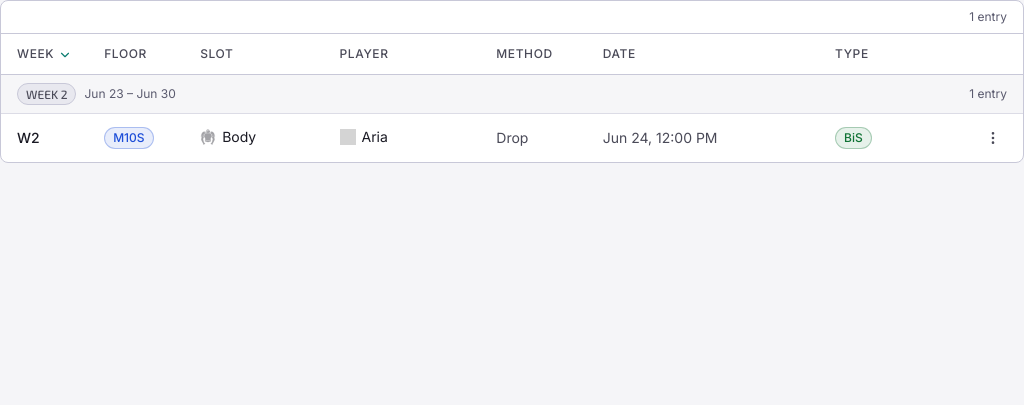
it: LootHistoryTable › kebab › shows Edit/Copy link/Delete for a loot row when canEdit is true
What coordinates should you click on to do the following:
click the button named "entry actions"
I would click on:
 (993, 138)
Its box is [979, 124, 1007, 152].
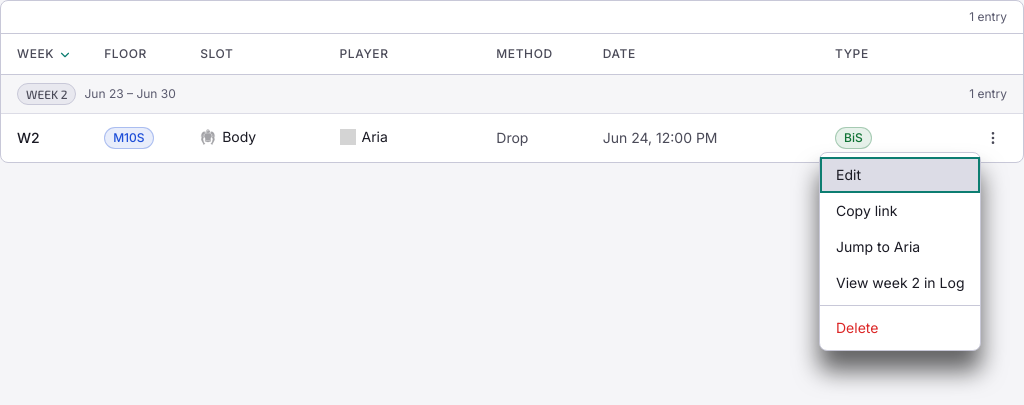
Check: the menu item "Edit" is shown, box [820, 157, 980, 193]
Check: the menu item "Copy link" is shown, box [820, 193, 980, 229]
Check: the menu item "Delete" is shown, box [820, 310, 980, 346]
